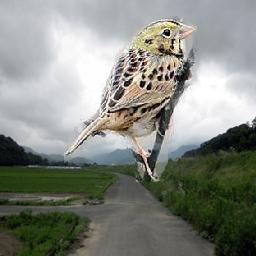Sparrow: (65, 16, 198, 182)
